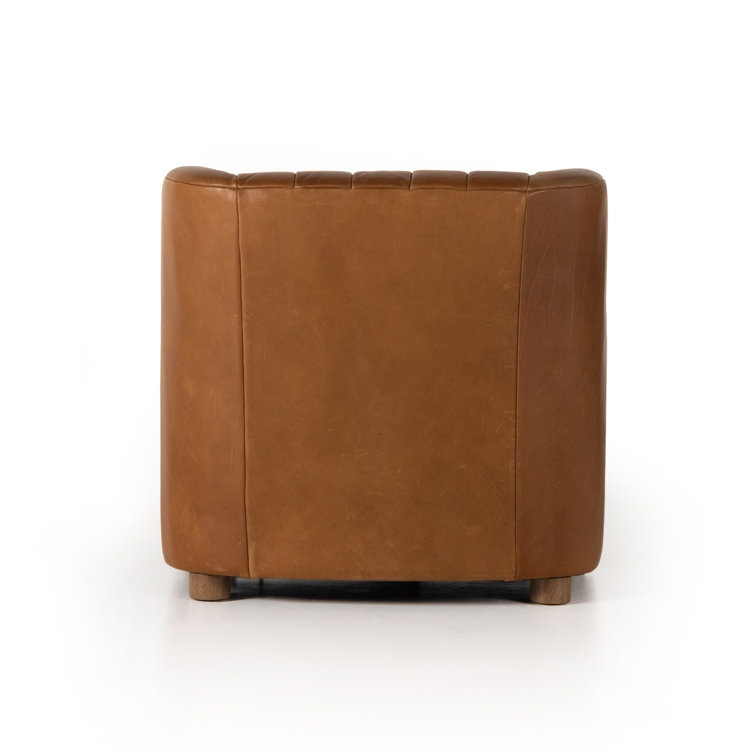obstacle: (162, 167, 605, 603)
